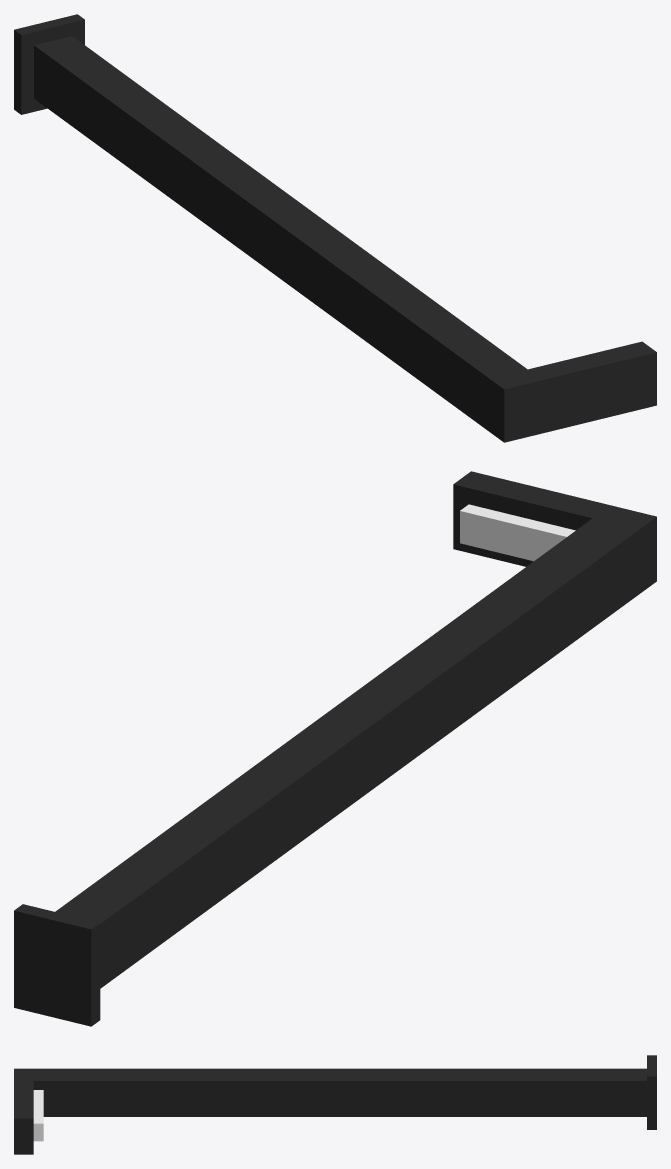
Rendered from lantern.gltf.
The picture shows the model from 3 angles, top to bottom: view 1: azimuth 30°, elevation 25°; view 2: azimuth 150°, elevation 25°; view 3: azimuth 270°, elevation 25°; orthographic projection. The views are drawn at different scales.
Parts seen in each view (by area): view 1: lantern; view 2: lantern; view 3: lantern.
Part boxes in pixels (<box>): lantern: <box>14,14,656,442</box>; lantern: <box>14,471,656,1026</box>; lantern: <box>14,1055,656,1154</box>.
Bounding box in the file's own units: 1.3 × 0.6 × 6.5.
1 material, 1 textured.
